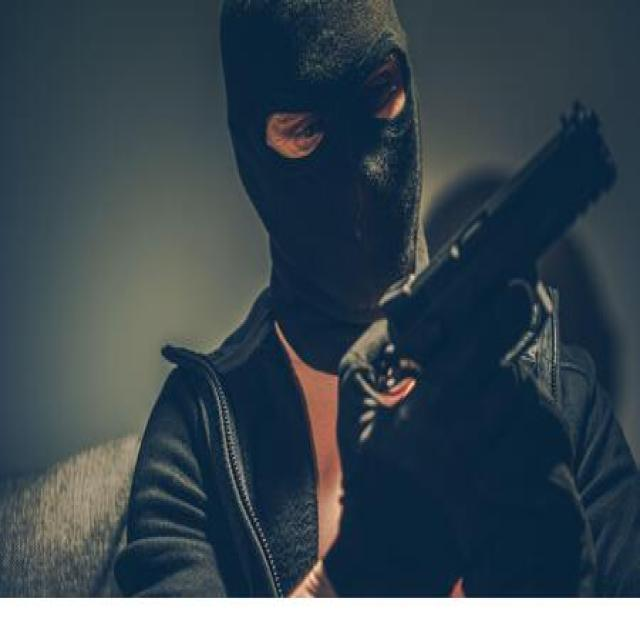6_pasamontana: (221, 0, 423, 375)
